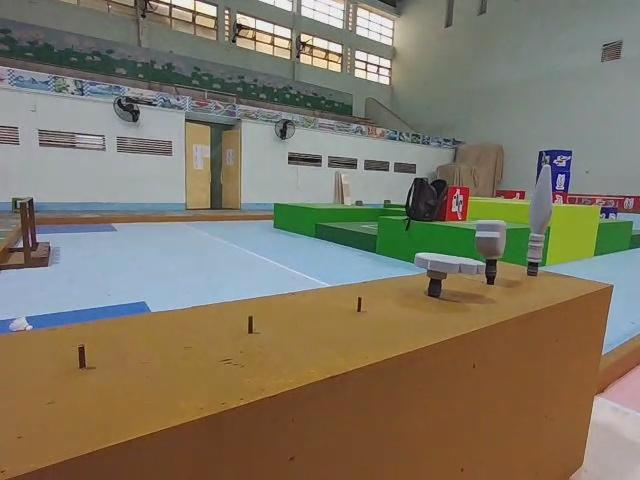Fist: (474, 217, 511, 284)
Hand: (412, 250, 489, 297)
Sph: (524, 165, 557, 278)
